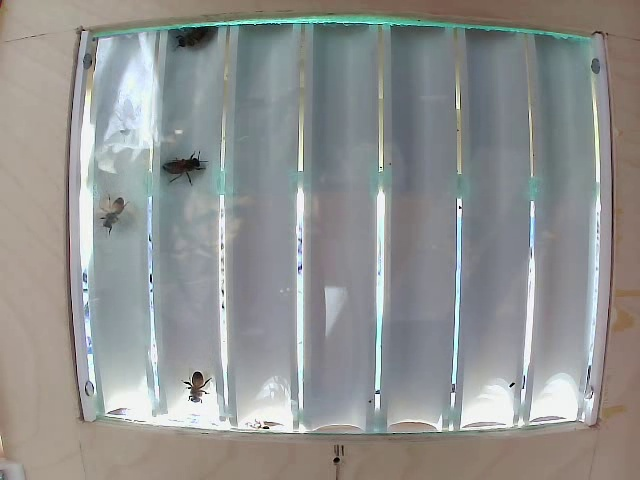bee: (161, 154, 209, 187), (178, 362, 212, 403), (93, 187, 121, 235)
